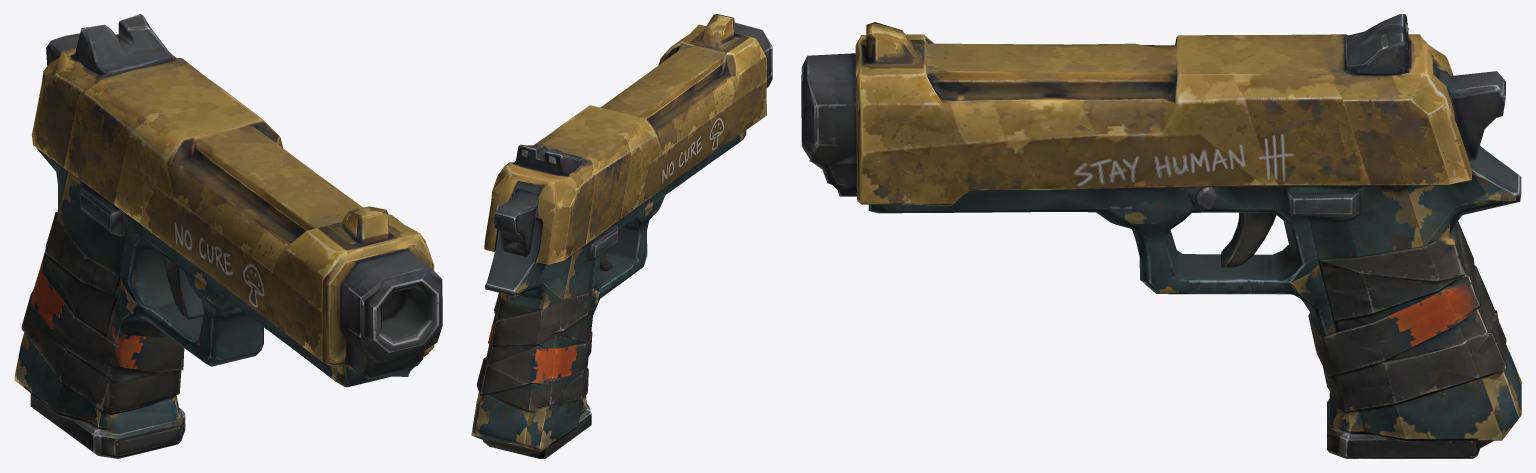
The model's file is stylized_pistol.glb.
3 views of the same model, side by side, from view 1: azimuth 30°, elevation 25°; view 2: azimuth 150°, elevation 25°; view 3: azimuth 270°, elevation 25° (orthographic). The views are drawn at different scales.
Visible parts, largest first — view 1: tripo_node_f7f457f1-d653-4ed5-bc29-91a022e56add; view 2: tripo_node_f7f457f1-d653-4ed5-bc29-91a022e56add; view 3: tripo_node_f7f457f1-d653-4ed5-bc29-91a022e56add.
Part boxes in pixels (x1,y1,x2,y2): tripo_node_f7f457f1-d653-4ed5-bc29-91a022e56add: (14,14,442,458); tripo_node_f7f457f1-d653-4ed5-bc29-91a022e56add: (471,14,772,458); tripo_node_f7f457f1-d653-4ed5-bc29-91a022e56add: (801,14,1521,458).
Bounding box in the file's own units: 0.1806 × 0.6157 × 0.9811.
Materials: 1 (1 with a texture image).
